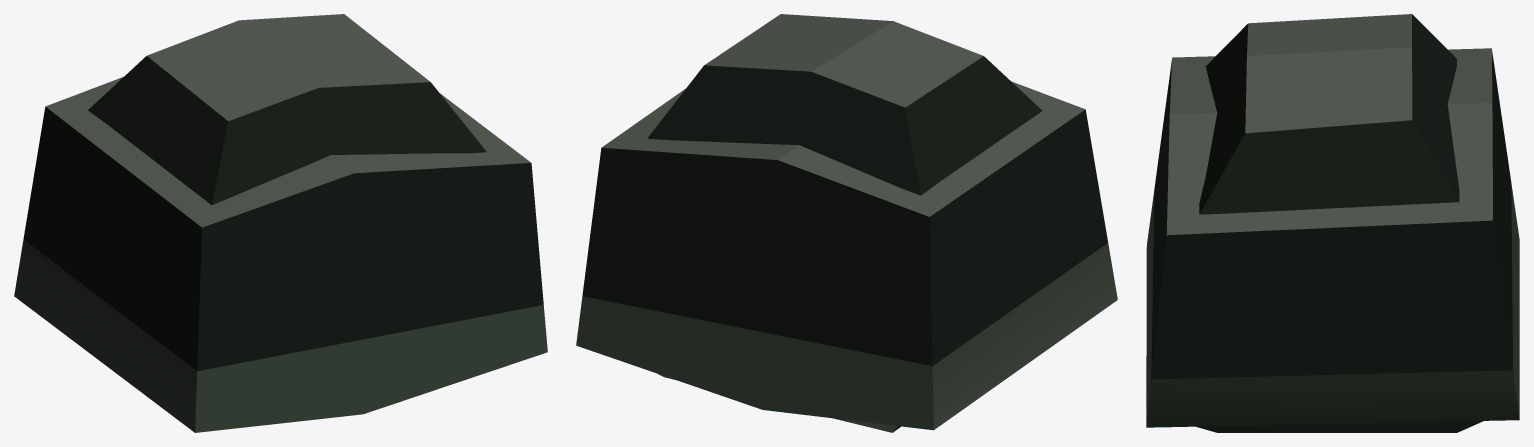
The model's file is SF_Env_Tree_Snow_09.glb.
3 views of the same model, side by side, from view 1: azimuth 30°, elevation 25°; view 2: azimuth 150°, elevation 25°; view 3: azimuth 270°, elevation 25° (orthographic). The views are drawn at different scales.
Parts seen in each view (by area): view 1: SF_Env_Tree_Snow_09; view 2: SF_Env_Tree_Snow_09; view 3: SF_Env_Tree_Snow_09.
Part boxes in pixels (x1,y1,x2,y2): SF_Env_Tree_Snow_09: (14, 14, 547, 432); SF_Env_Tree_Snow_09: (576, 14, 1117, 432); SF_Env_Tree_Snow_09: (1146, 14, 1519, 432).
Size of the model in its own units: 0.0269 by 0.0229 by 0.024.
Materials: 1 (1 with a texture image).
